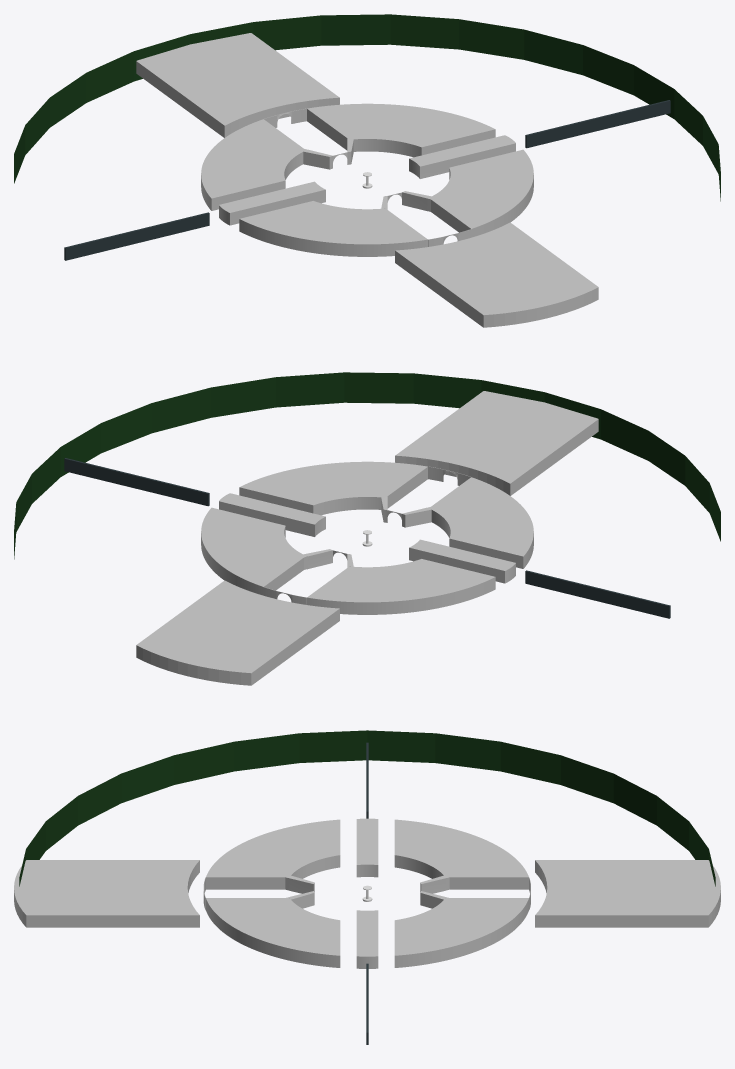
The model's file is fish_environment_1_2.glb.
3 renders of one model, top to bottom at view 1: azimuth 30°, elevation 25°; view 2: azimuth 150°, elevation 25°; view 3: azimuth 270°, elevation 25°, orthographic.
Visible parts, largest first — view 1: boundary, big tank walks, big tank thick wall, storage, storage.003, storage.001, storage.002, parallel wall, parallel wall.001, big_tank_divider, big_tank_divider.001; view 2: boundary, big tank thick wall, big tank walks, storage.002, storage.001, storage.003, storage, parallel wall, parallel wall.001, big_tank_divider, big_tank_divider.001; view 3: boundary, big tank thick wall, big tank walks, storage.003, storage.001, storage.002, storage, parallel wall.001, parallel wall.
Part boxes in pixels (bbox=[...]): boundary: bbox=[14, 14, 720, 201]; big tank walks: bbox=[395, 222, 598, 327]; big tank thick wall: bbox=[136, 33, 339, 137]; storage: bbox=[239, 201, 427, 256]; storage.003: bbox=[307, 103, 495, 157]; storage.001: bbox=[427, 149, 533, 237]; storage.002: bbox=[201, 119, 306, 210]; parallel wall: bbox=[409, 135, 515, 178]; parallel wall.001: bbox=[219, 181, 325, 225]; big_tank_divider: bbox=[525, 100, 670, 148]; big_tank_divider.001: bbox=[64, 212, 209, 260]; boundary: bbox=[14, 372, 720, 559]; big tank thick wall: bbox=[136, 580, 339, 685]; big tank walks: bbox=[395, 391, 598, 495]; storage.002: bbox=[307, 559, 495, 614]; storage.001: bbox=[239, 461, 427, 515]; storage.003: bbox=[201, 507, 307, 595]; storage: bbox=[428, 477, 533, 568]; parallel wall: bbox=[219, 493, 325, 536]; parallel wall.001: bbox=[409, 539, 515, 583]; big_tank_divider: bbox=[64, 458, 209, 506]; big_tank_divider.001: bbox=[525, 570, 670, 618]; boundary: bbox=[19, 730, 715, 886]; big tank thick wall: bbox=[535, 860, 720, 927]; big tank walks: bbox=[14, 860, 199, 927]; storage.003: bbox=[394, 897, 528, 967]; storage.001: bbox=[206, 897, 340, 967]; storage.002: bbox=[394, 819, 528, 890]; storage: bbox=[206, 819, 340, 890]; parallel wall.001: bbox=[356, 818, 378, 877]; parallel wall: bbox=[356, 910, 378, 968].
Bounding box in the file's own units: 128 × 6.04 × 130.
